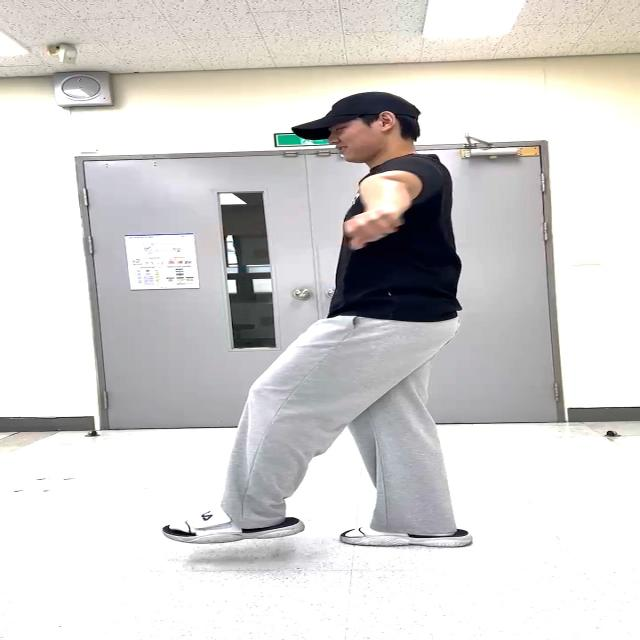leg: (184, 303, 364, 567)
